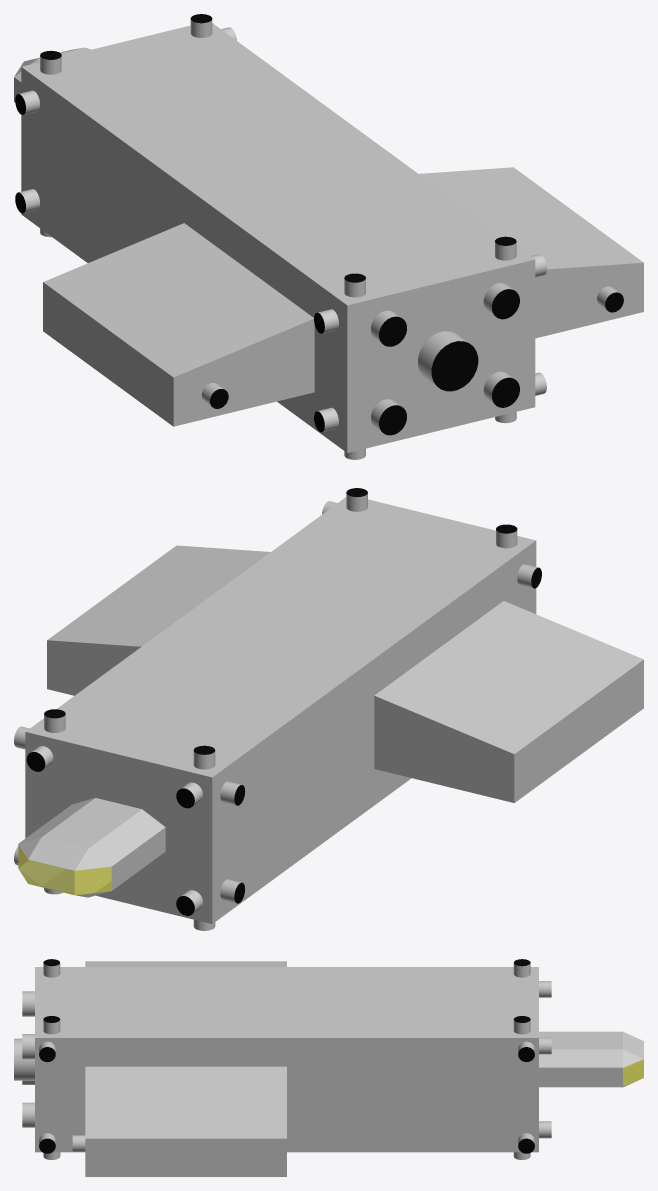
The model's file is SJ-basic ship 1.dae.
The picture shows the model from 3 angles, top to bottom: view 1: azimuth 30°, elevation 25°; view 2: azimuth 150°, elevation 25°; view 3: azimuth 270°, elevation 25°; orthographic projection. The views are drawn at different scales.
Visible parts, largest first — view 1: SketchUp (×9); view 2: SketchUp (×5); view 3: SketchUp (×9).
Part boxes in pixels (x1,y1,x2,y2): SketchUp (×9): (21,23,643,452); SketchUp (×5): (18,497,643,923); SketchUp (×9): (14,961,643,1176).
Bounding box in the file's own units: 394 × 591 × 142.
